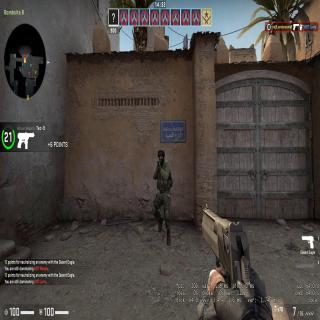CT-Body: (149, 142, 174, 238)
CT-Head: (156, 148, 166, 160)
